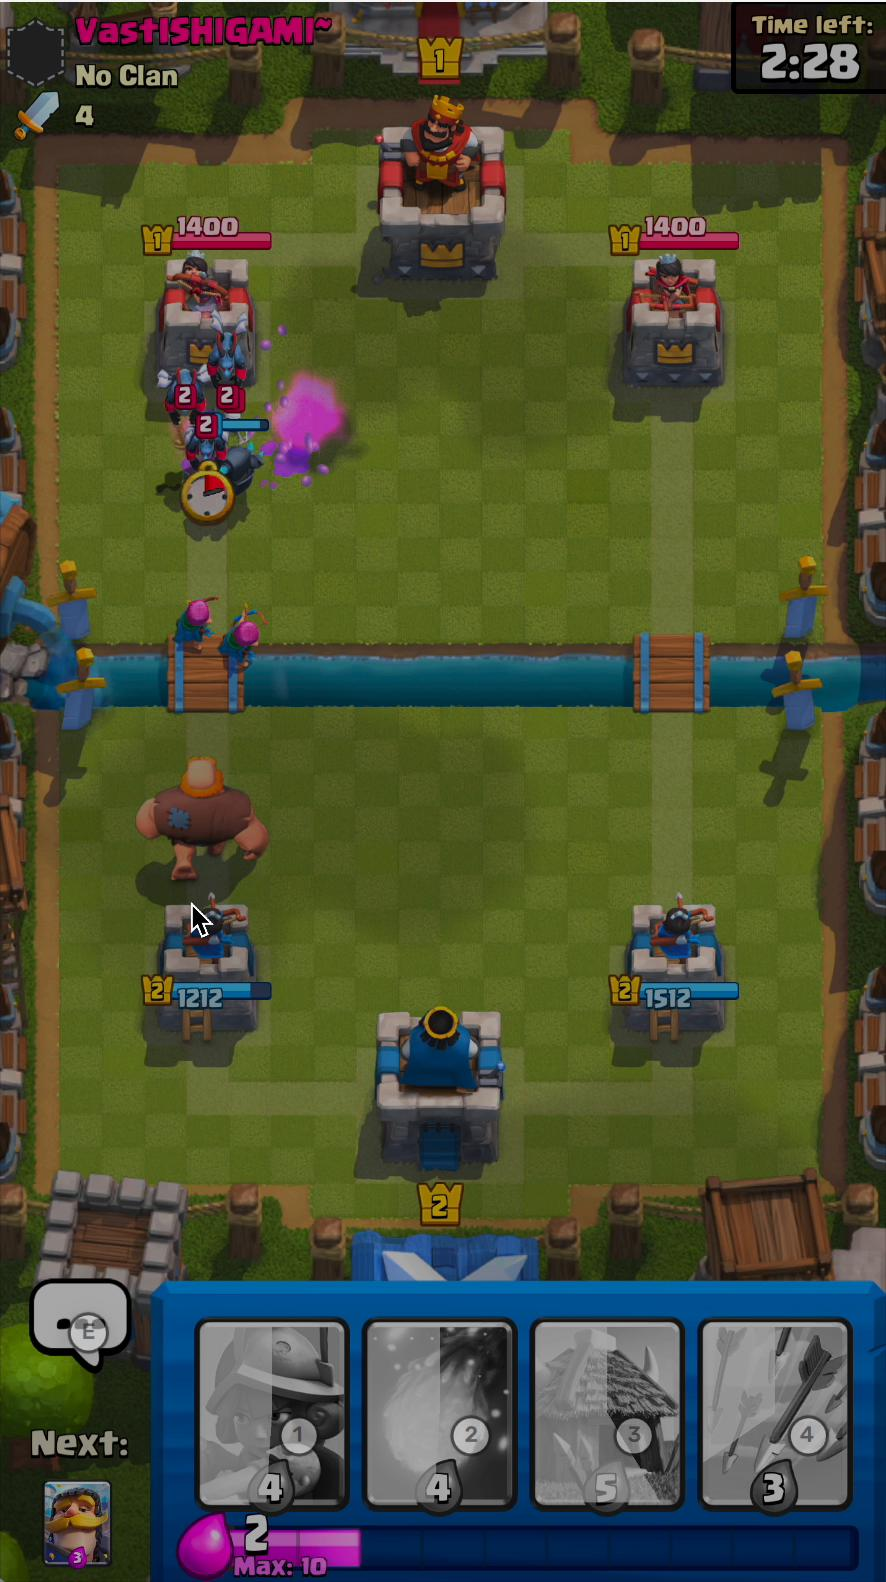archere: (166, 591, 225, 661), (216, 611, 267, 670)
gargouille: (160, 362, 208, 422), (180, 410, 233, 463), (201, 331, 251, 381)
geant: (134, 754, 280, 892)
mini_PEKKA: (208, 428, 266, 507)
